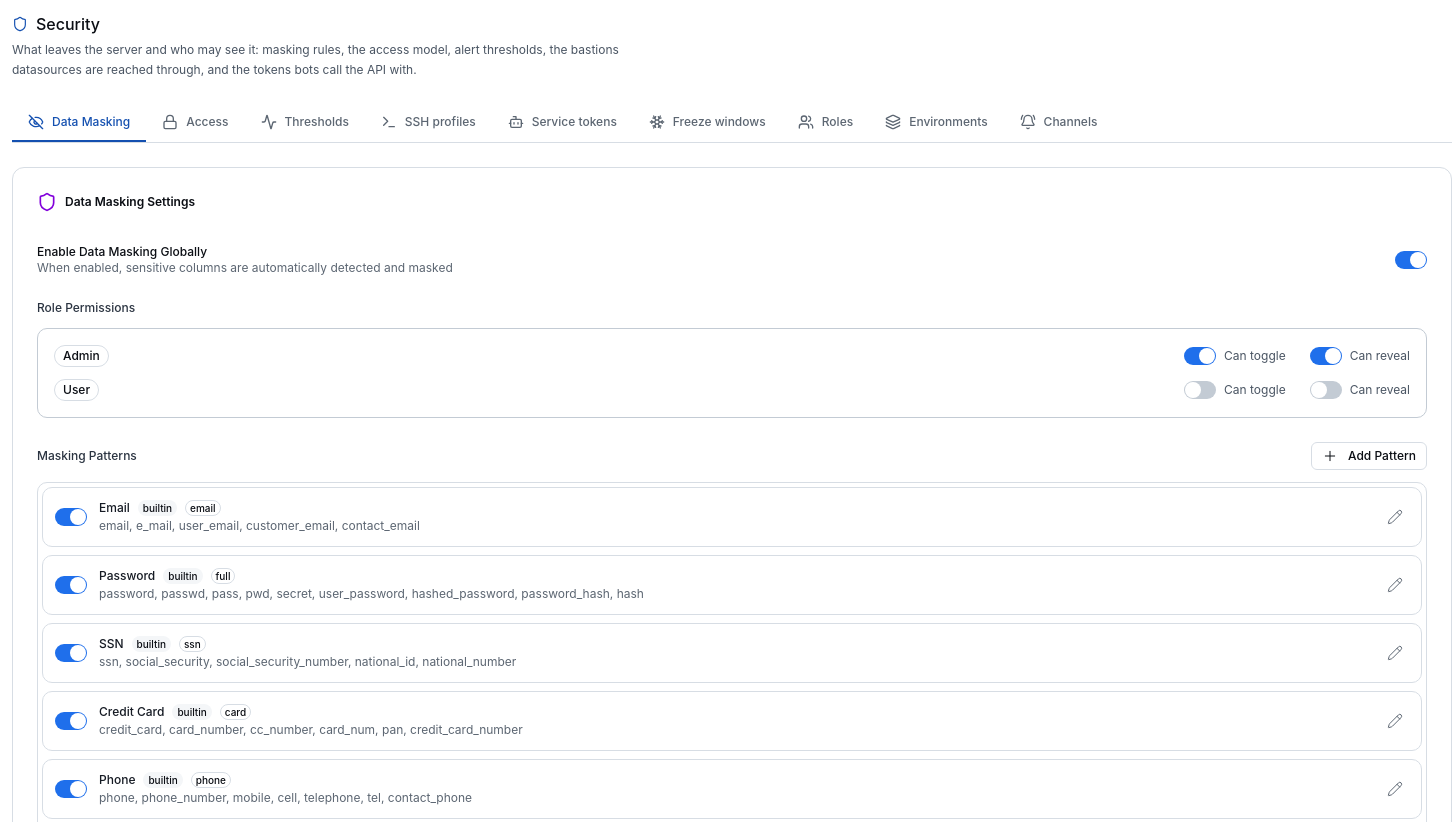
Scenario: SecurityTab › thresholds tab shows metric sliders
The width and height of the screenshot is (1452, 822).
Press the mouse on the tab "Thresholds": point(305, 122) [244,103,365,142]
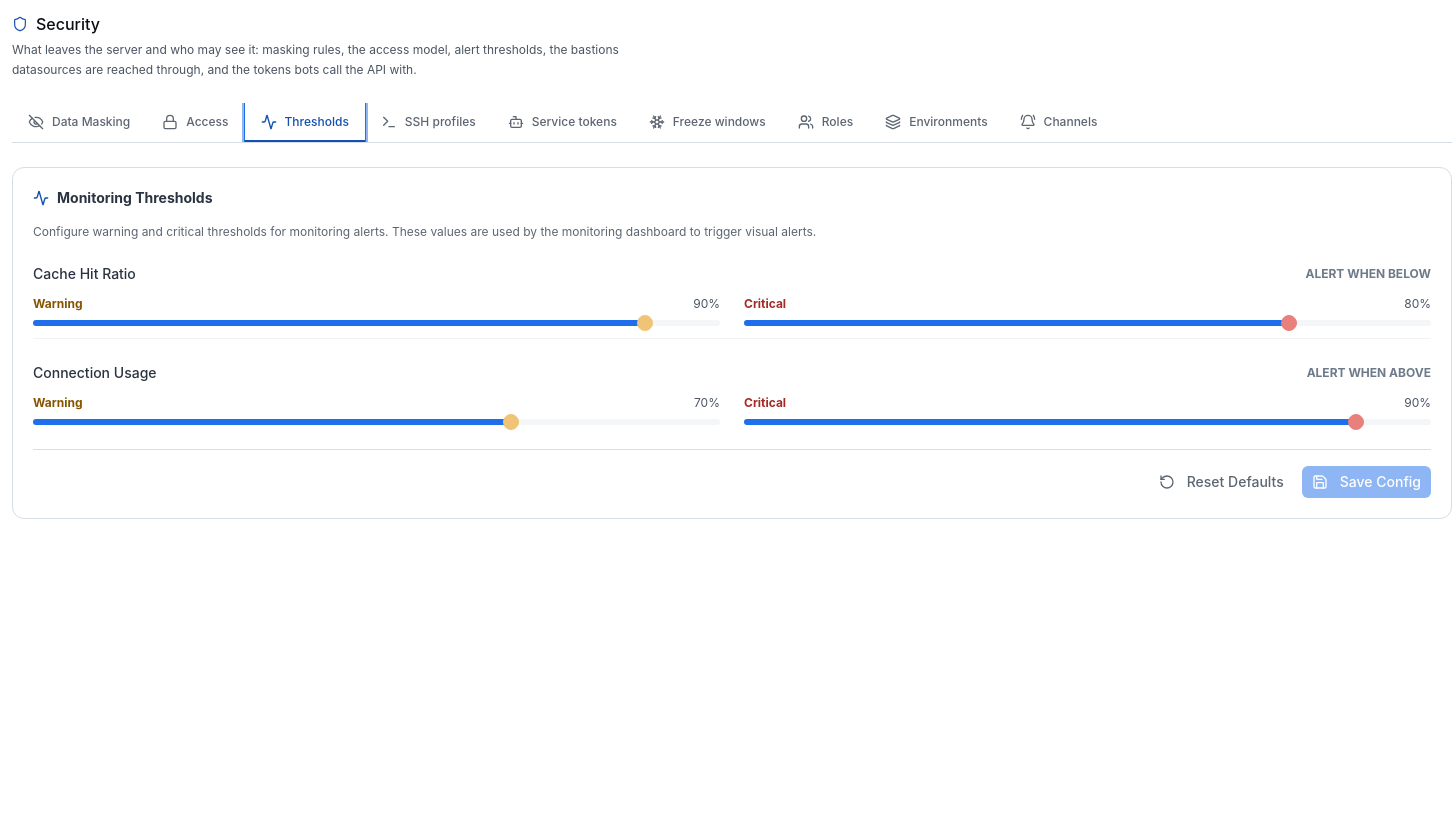
Check: the heading "Monitoring Thresholds" is shown, box [33,189,212,206]
Check: the text "Cache Hit Ratio" is shown, box [33,264,136,284]
Check: the text "Connection Usage" is shown, box [33,363,156,383]
